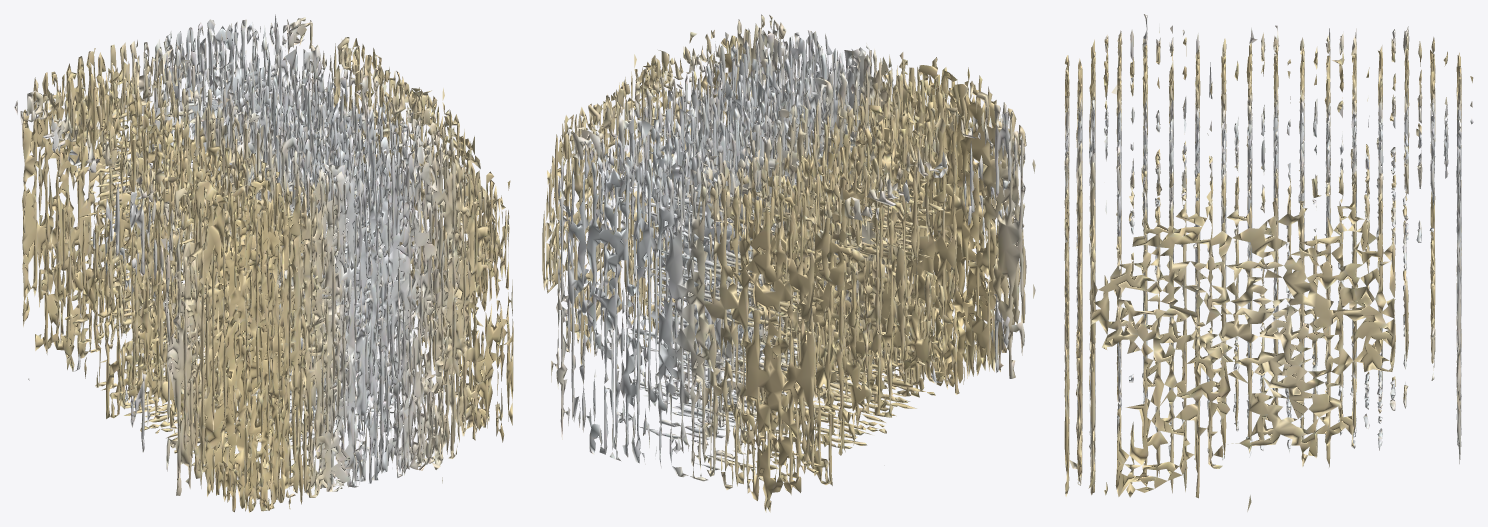
Rendered from nexus_title_emblem.glb.
The picture shows the model from 3 angles, left to right: view 1: azimuth 30°, elevation 25°; view 2: azimuth 150°, elevation 25°; view 3: azimuth 270°, elevation 25°; orthographic projection. The views are drawn at different scales.
Visible parts, largest first — view 1: world; view 2: world; view 3: world.
Boxes of the visible parts, x1,y1,x2,y2 form: world: (14,14,513,512); world: (542,14,1035,512); world: (1064,14,1473,511).
Bounding box in the file's own units: 0.9872 × 0.9177 × 0.978.
1 material, 1 textured.
